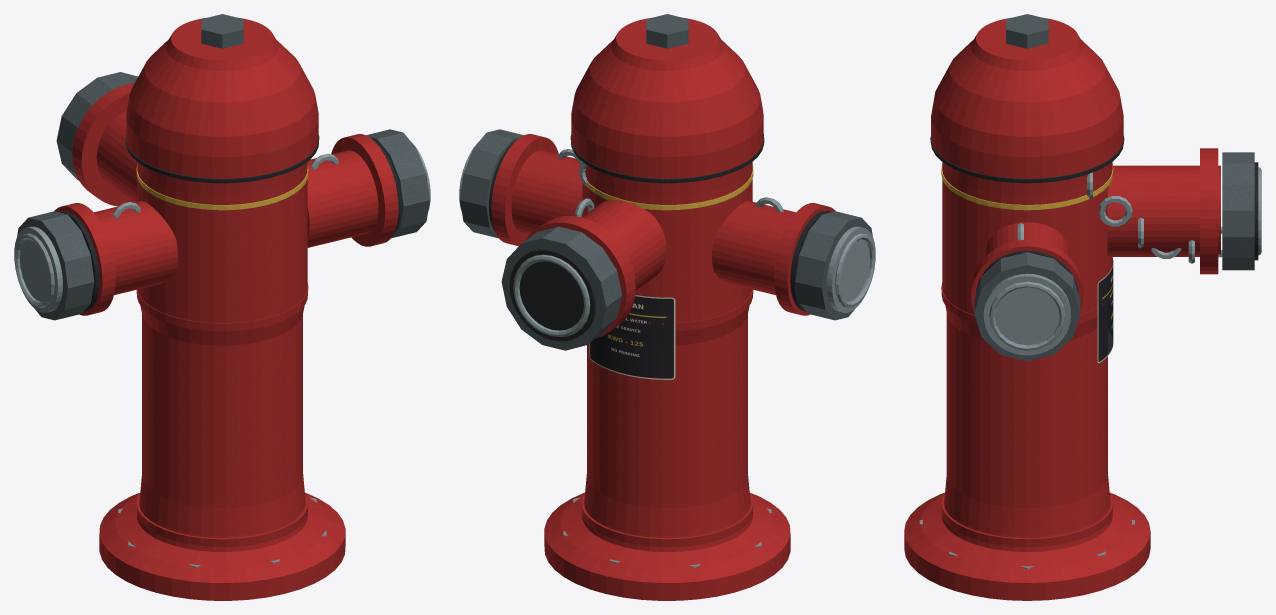
3 renders of one model, left to right at view 1: azimuth 30°, elevation 25°; view 2: azimuth 150°, elevation 25°; view 3: azimuth 270°, elevation 25°, orthographic.
Visible parts, largest first — view 1: VIS_Cast_Barrel_000, VIS_Bonnet_Casting_001, VIS_East_Nozzle_Neck_027, VIS_West_Nozzle_Neck_015, VIS_West_Cap_Hex_018, VIS_Front_Pumper_Flange_040, VIS_East_Cap_Hex_030, VIS_East_Nozzle_Flange_028, VIS_West_Cap_Face_019, VIS_Front_Pumper_Neck_039, VIS_Front_Pumper_Cap_041, VIS_West_Nozzle_Flange_016 (+7 smaller); view 2: VIS_Cast_Barrel_000, VIS_Bonnet_Casting_001, VIS_Kaldran_Utility_Marking_050, VIS_West_Nozzle_Neck_015, VIS_Front_Pumper_Cap_041, VIS_Front_Seal_042, VIS_East_Nozzle_Neck_027, VIS_West_Cap_Hex_018, VIS_Front_Pumper_Neck_039, VIS_East_Cap_Hex_030, VIS_East_Nozzle_Flange_028, VIS_Front_Pumper_Flange_040 (+10 smaller); view 3: VIS_Cast_Barrel_000, VIS_Bonnet_Casting_001, VIS_Front_Pumper_Neck_039, VIS_East_Cap_Face_031, VIS_Front_Pumper_Cap_041, VIS_East_Cap_Hex_030, VIS_Front_Pumper_Flange_040, VIS_Cast_Stiffening_Ring_003, VIS_East_Nozzle_Flange_028, VIS_Kaldran_Utility_Marking_050, VIS_East_Nozzle_Neck_027, VIS_East_Cap_Ring_032 (+6 smaller).
Part boxes in pixels (box(x1,y1,x2,y2)): VIS_Cast_Barrel_000: box(99, 162, 345, 600); VIS_Bonnet_Casting_001: box(126, 18, 318, 178); VIS_East_Nozzle_Neck_027: box(307, 150, 378, 247); VIS_West_Nozzle_Neck_015: box(94, 201, 177, 295); VIS_West_Cap_Hex_018: box(17, 211, 94, 320); VIS_Front_Pumper_Flange_040: box(72, 83, 134, 206); VIS_East_Cap_Hex_030: box(366, 129, 429, 238); VIS_East_Nozzle_Flange_028: box(331, 134, 398, 246); VIS_West_Cap_Face_019: box(14, 226, 62, 312); VIS_Front_Pumper_Neck_039: box(96, 110, 137, 202); VIS_Front_Pumper_Cap_041: box(56, 72, 137, 180); VIS_West_Nozzle_Flange_016: box(54, 203, 115, 315); VIS_Cast_Barrel_000: box(544, 162, 790, 600); VIS_Bonnet_Casting_001: box(571, 18, 763, 178); VIS_Kaldran_Utility_Marking_050: box(589, 295, 675, 379); VIS_West_Nozzle_Neck_015: box(712, 201, 795, 295); VIS_Front_Pumper_Cap_041: box(501, 226, 622, 350); VIS_Front_Seal_042: box(509, 249, 596, 341); VIS_East_Nozzle_Neck_027: box(511, 150, 582, 234); VIS_West_Cap_Hex_018: box(795, 211, 872, 320); VIS_Front_Pumper_Neck_039: box(582, 200, 666, 290); VIS_East_Cap_Hex_030: box(460, 129, 523, 238); VIS_East_Nozzle_Flange_028: box(491, 134, 558, 246); VIS_Front_Pumper_Flange_040: box(525, 216, 635, 338); VIS_Cast_Barrel_000: box(904, 162, 1150, 600); VIS_Bonnet_Casting_001: box(931, 17, 1123, 178); VIS_Front_Pumper_Neck_039: box(1107, 165, 1220, 256); VIS_East_Cap_Face_031: box(983, 273, 1070, 355); VIS_Front_Pumper_Cap_041: box(1222, 152, 1254, 270); VIS_East_Cap_Hex_030: box(974, 252, 1080, 361); VIS_Front_Pumper_Flange_040: box(1200, 148, 1218, 274); VIS_Cast_Stiffening_Ring_003: box(941, 493, 1113, 547); VIS_East_Nozzle_Flange_028: box(971, 239, 1083, 312); VIS_Kaldran_Utility_Marking_050: box(1097, 257, 1113, 363); VIS_East_Nozzle_Neck_027: box(984, 222, 1069, 257); VIS_East_Cap_Ring_032: box(989, 281, 1065, 350).
Size of the model in its own units: 0.7337 by 0.98 by 0.598.
Materials: 6 (6 with a texture image).
